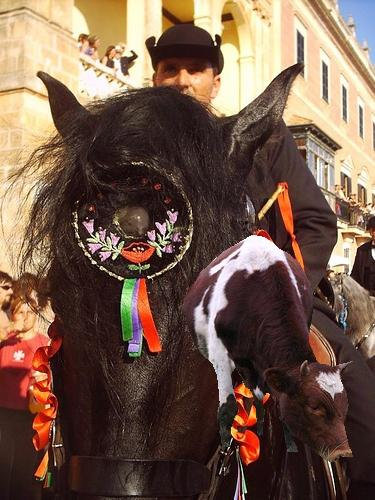tampered: (185, 236, 353, 462)
